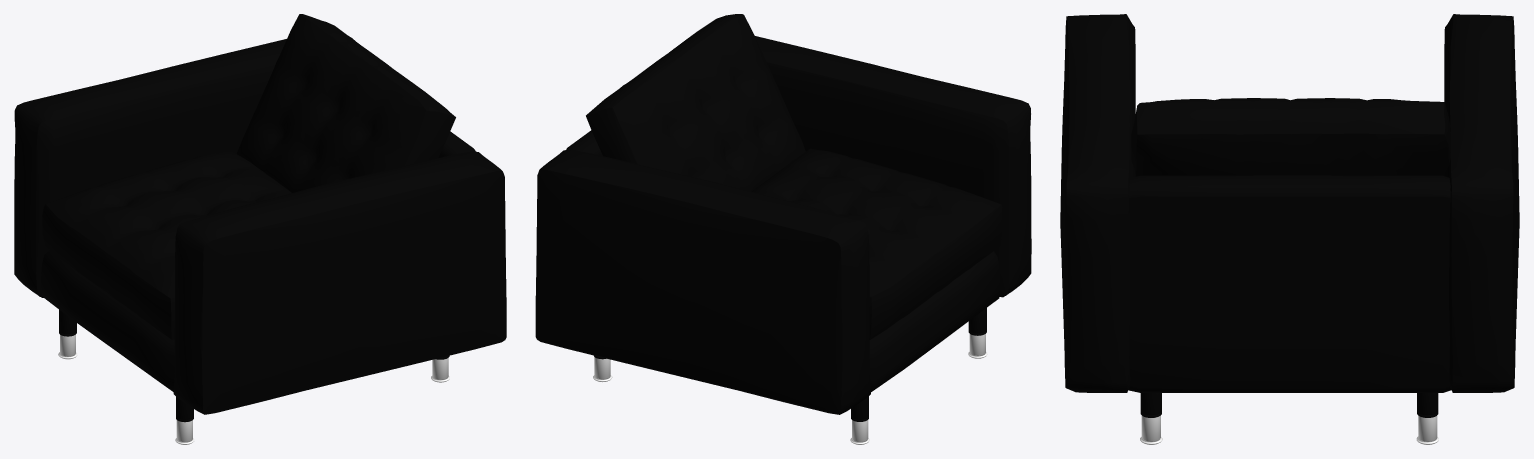
The model's file is chair.glb.
The picture shows the model from 3 angles, left to right: view 1: azimuth 30°, elevation 25°; view 2: azimuth 150°, elevation 25°; view 3: azimuth 270°, elevation 25°; orthographic projection. The views are drawn at different scales.
Parts seen in each view (by area): view 1: sm_armchair; view 2: sm_armchair; view 3: sm_armchair.
Boxes of the visible parts, box(x1,y1,x2,y2) form: sm_armchair: box(14, 14, 506, 444); sm_armchair: box(535, 14, 1031, 444); sm_armchair: box(1060, 14, 1519, 444).
Size of the model in its own units: 112 by 94.04 by 118.
1 material, 1 textured.
